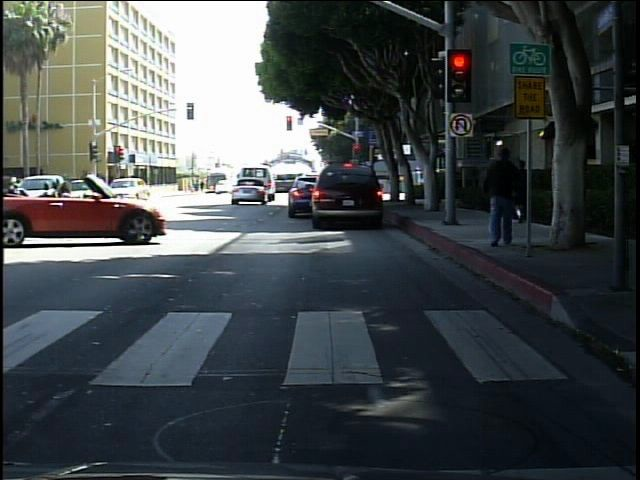person: (477, 132, 528, 252), (510, 148, 535, 231)
